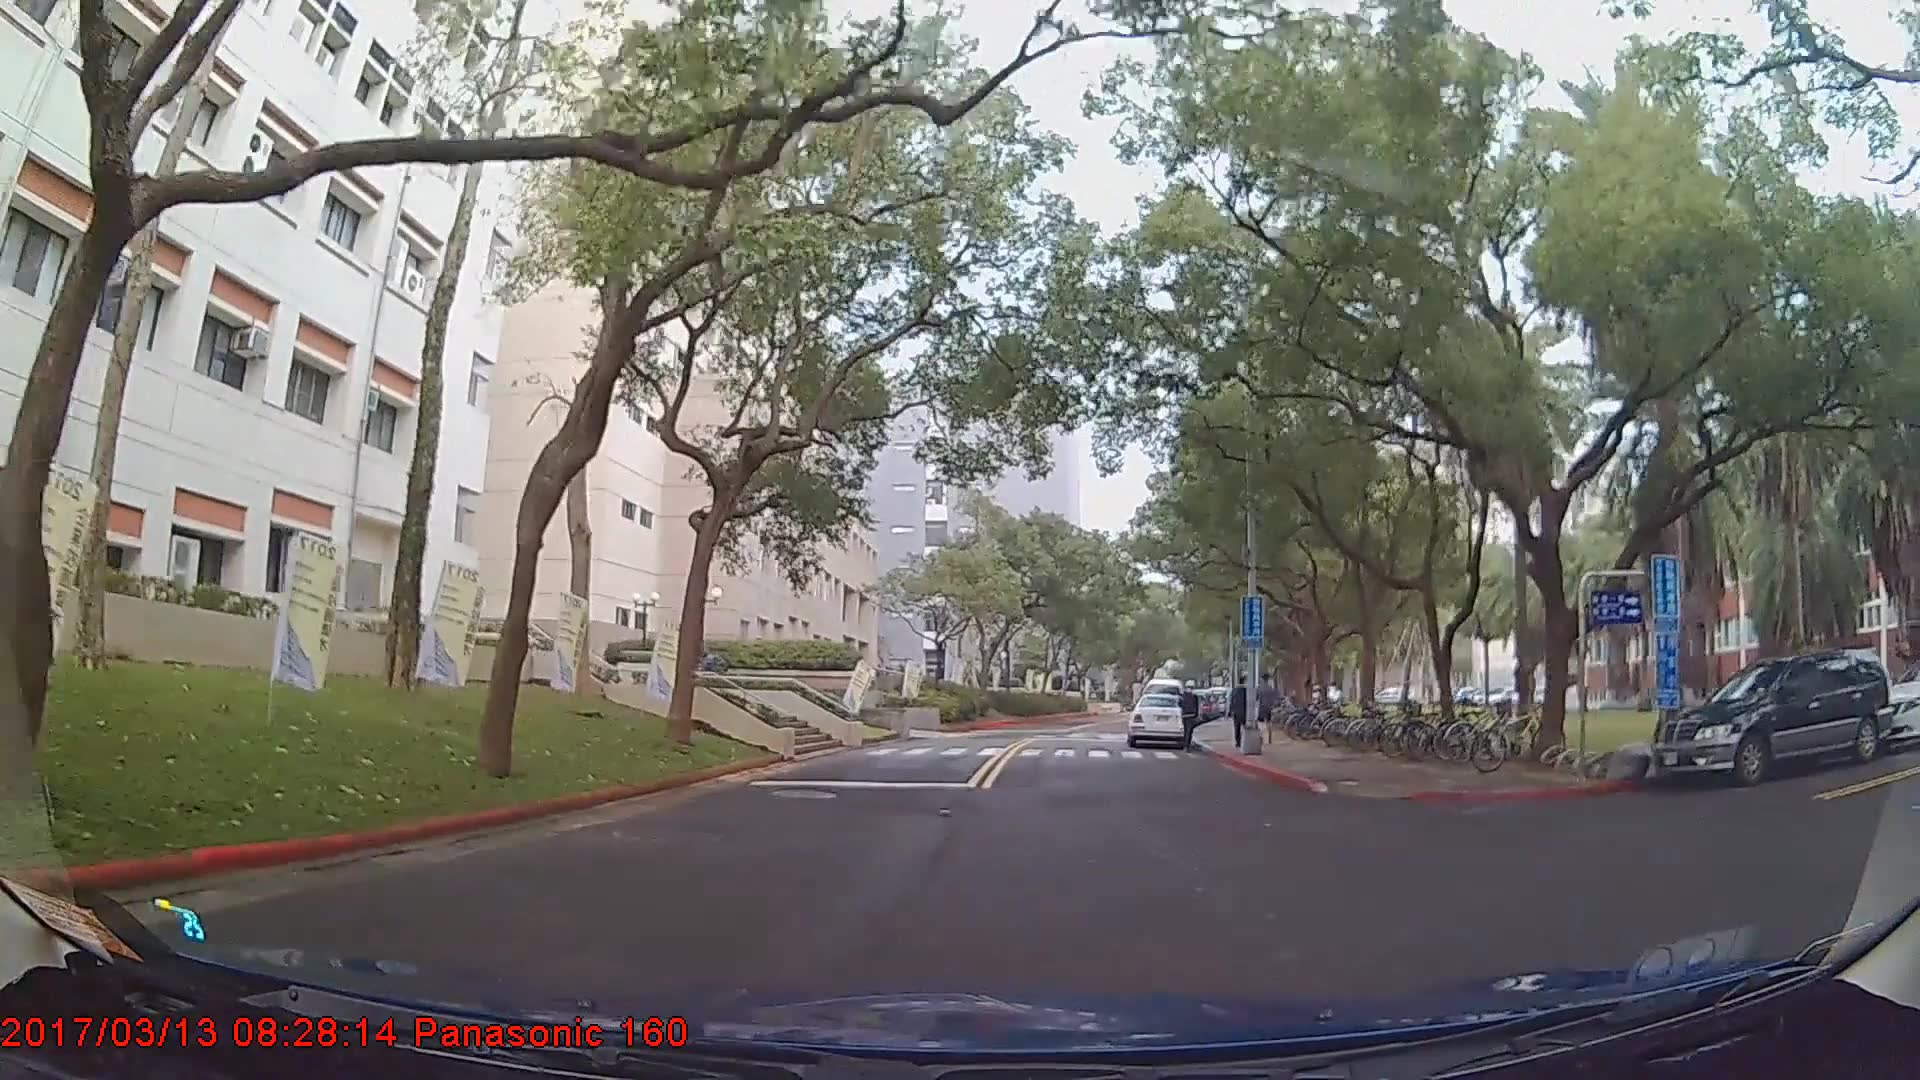pedestrian: (1230, 677, 1256, 750), (1176, 679, 1199, 754)
vehicle: (1651, 645, 1895, 787), (1124, 691, 1190, 745)
